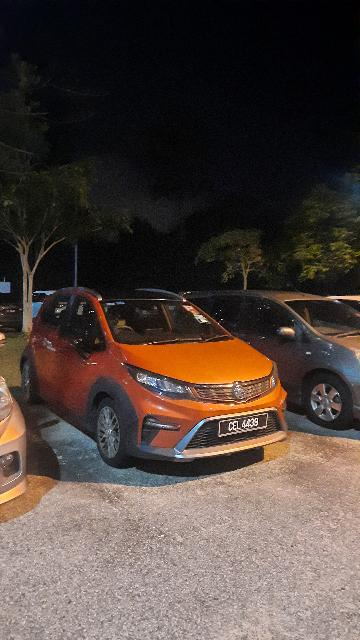License_Plate: (218, 414, 271, 439)
car: (19, 285, 290, 470), (181, 286, 360, 433)
